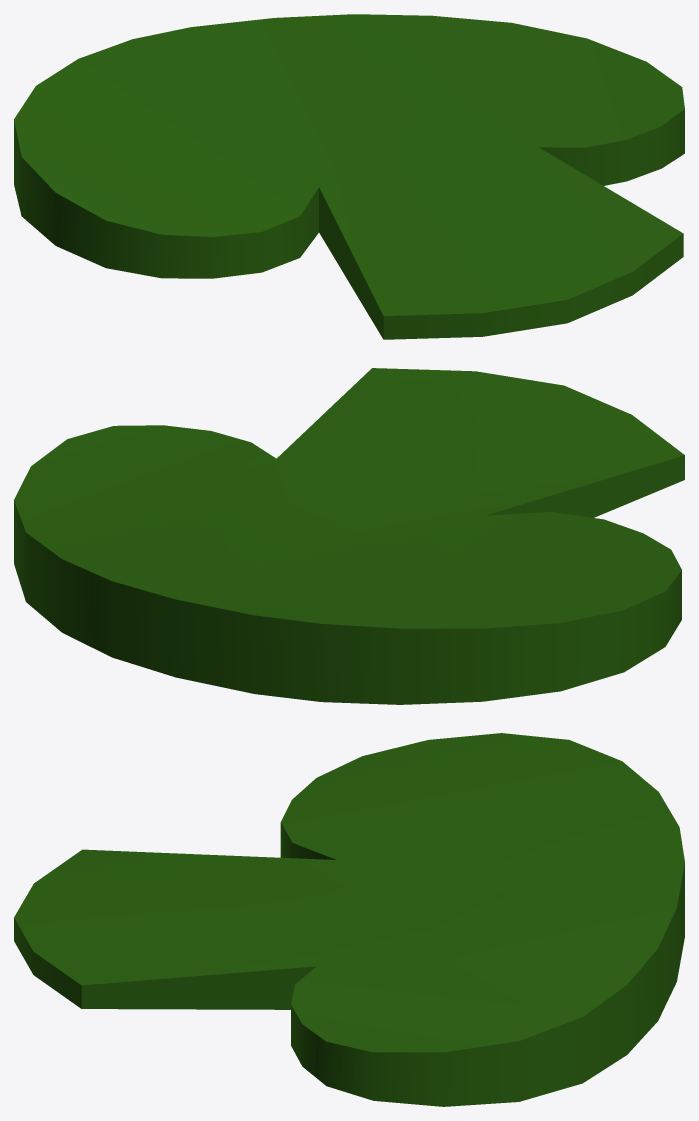
The model's file is m_mushroom.FBX.
3 renders of one model, top to bottom at view 1: azimuth 30°, elevation 25°; view 2: azimuth 150°, elevation 25°; view 3: azimuth 270°, elevation 25°, orthographic. The views are drawn at different scales.
Visible parts, largest first — view 1: m_mushroom; view 2: m_mushroom; view 3: m_mushroom.
Boxes of the visible parts, x1,y1,x2,y2 form: m_mushroom: (14, 14, 684, 339); m_mushroom: (14, 368, 684, 704); m_mushroom: (14, 733, 684, 1106).
Bounding box in the file's own units: 44.14 × 7.06 × 42.91.
